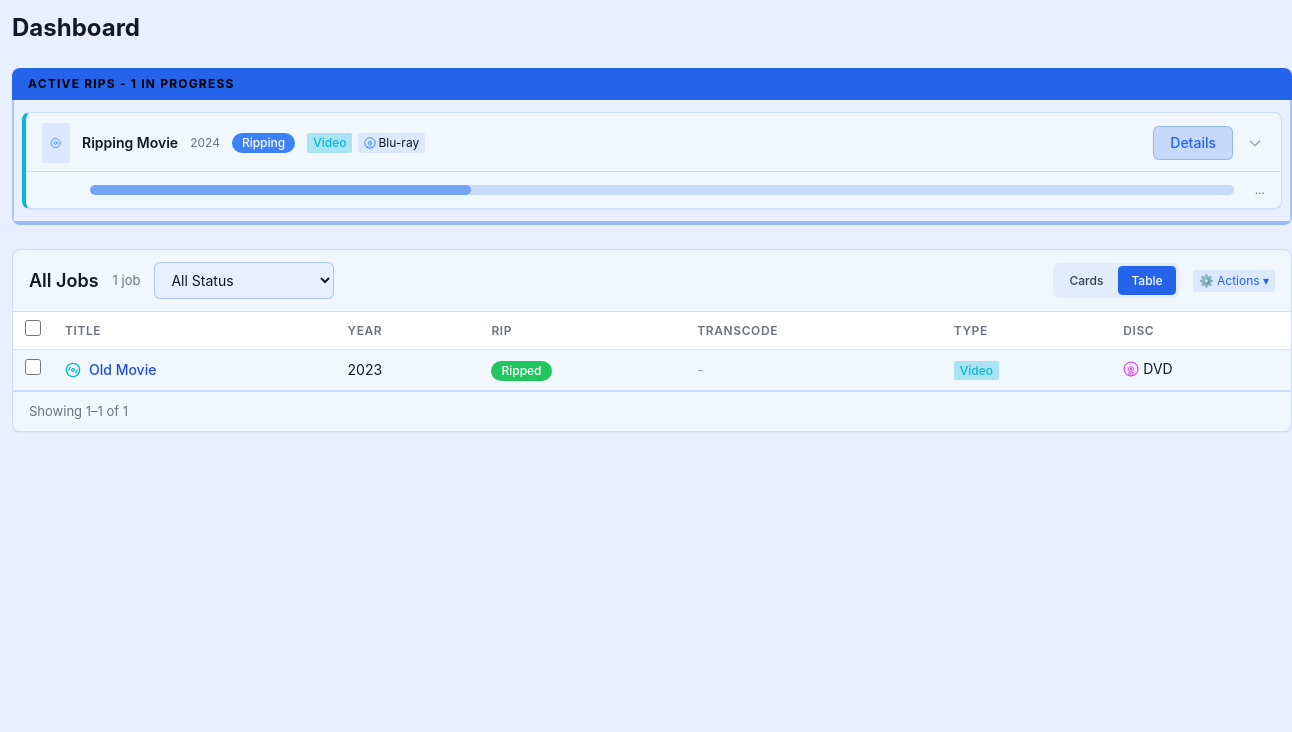
Test: Dashboard Page › view mode toggle › opens in the default layout from Settings > Interface; toggling on the page does not change it
Expected: the heading "Dashboard" is shown, [12,12,140,44]
Expected: the column heading "Title" is shown, [53,312,336,350]
Click the button "Cards".
click(1086, 280)  # box [1056,266,1116,295]
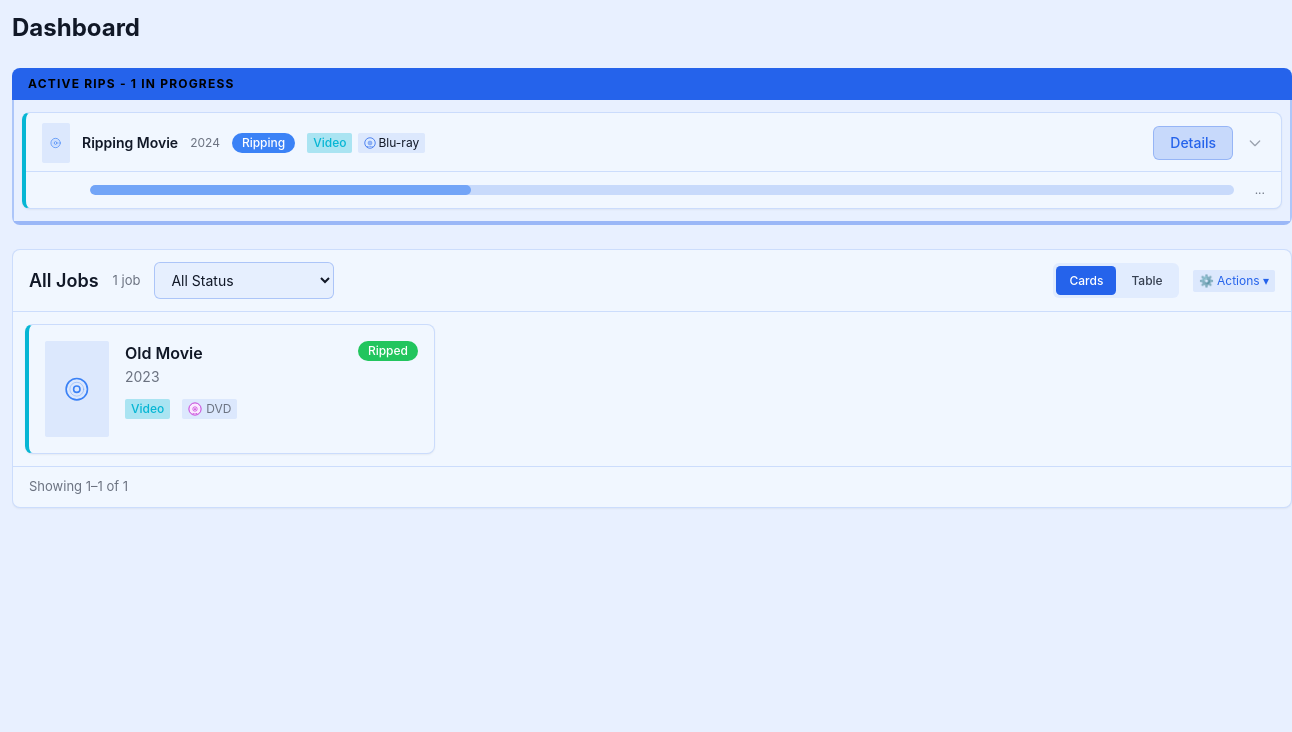
Expected: the column heading "Title" is gone
